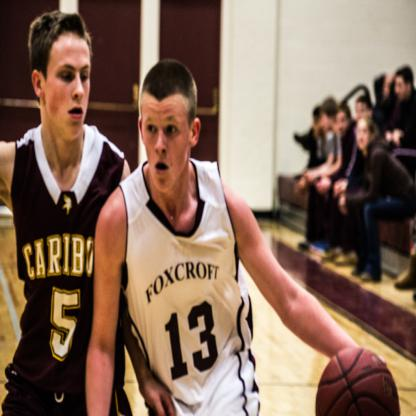Ball: (315, 344, 400, 415)
